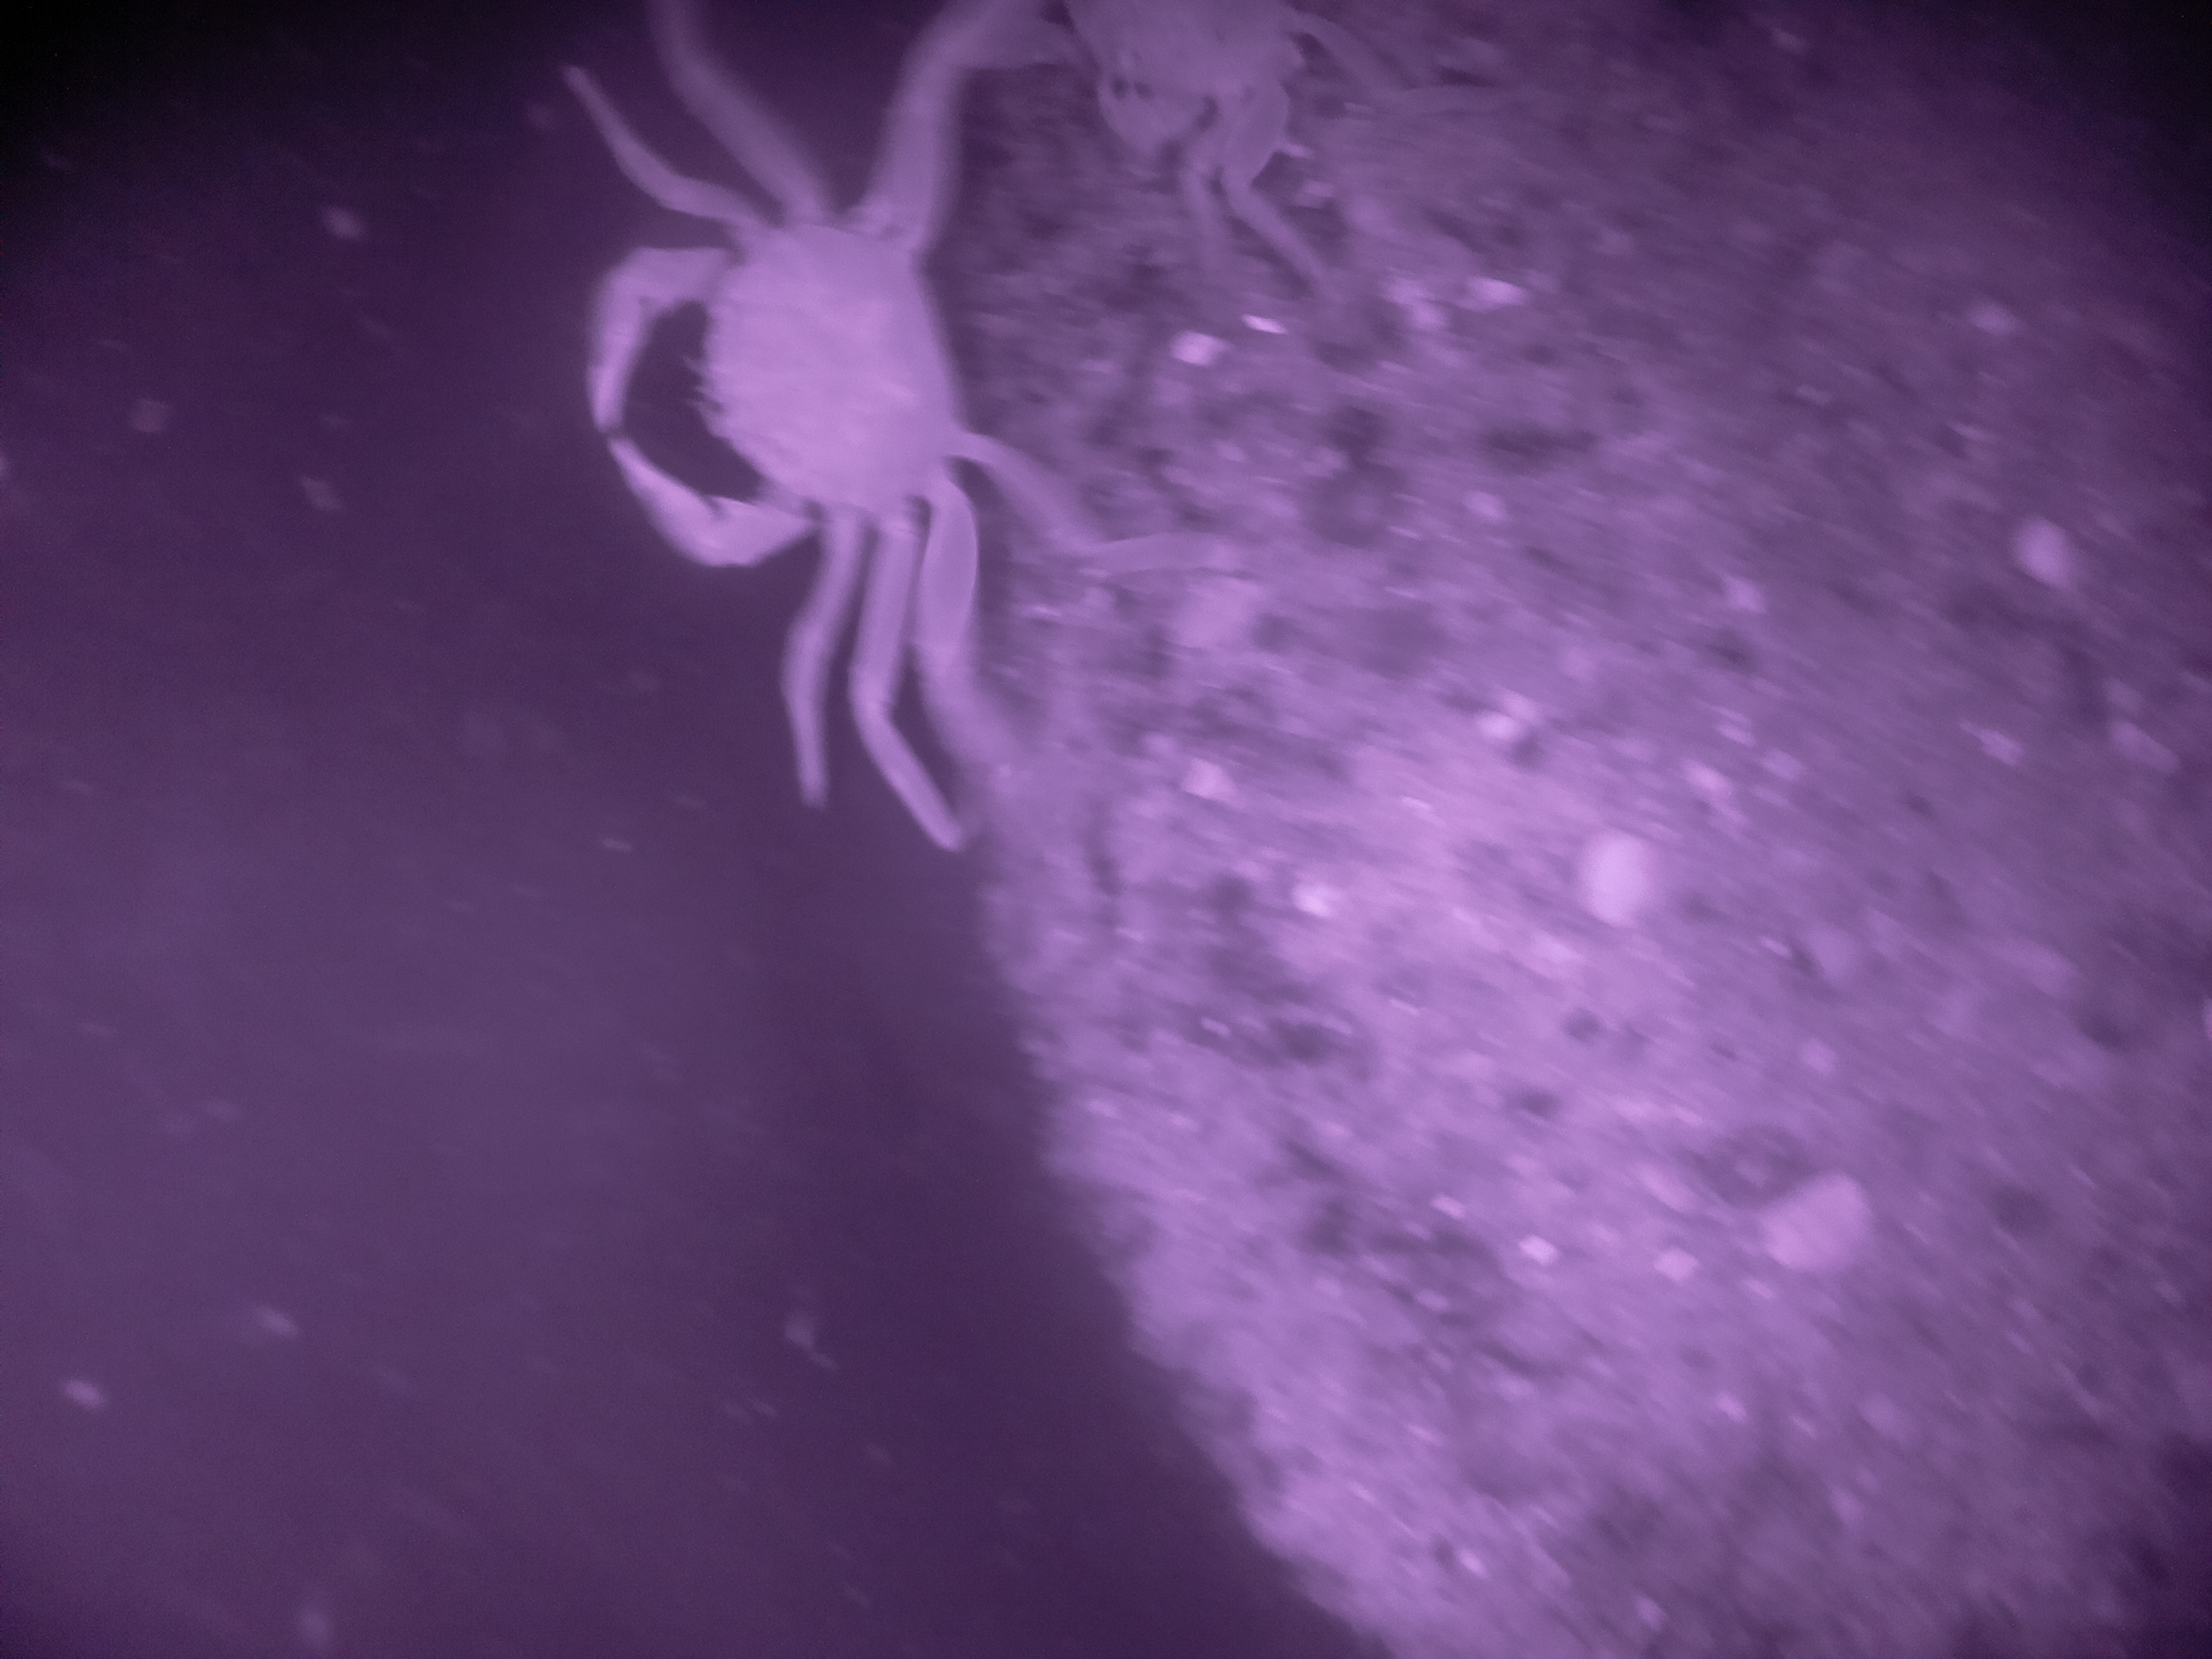Crab: (529, 92, 1038, 653)
